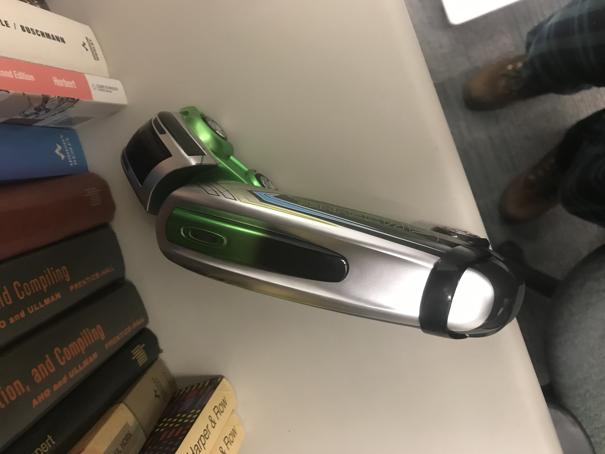Freewheel: (119, 104, 530, 341)
